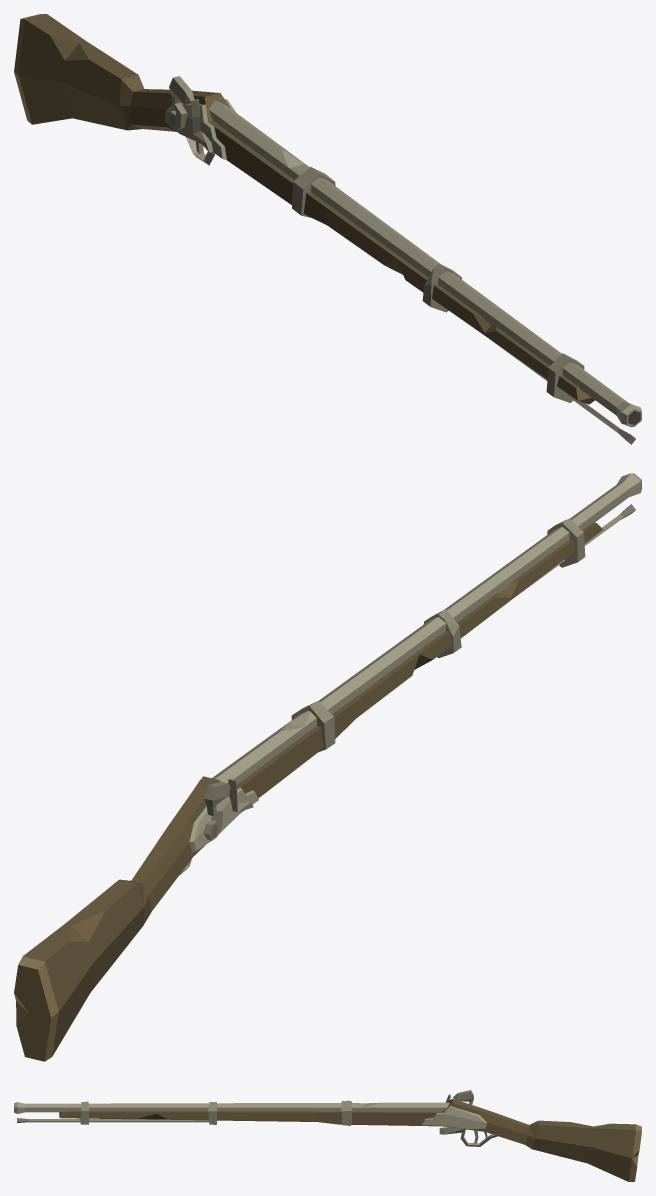
Rendered from Rifle_1.fbx.
The picture shows the model from 3 angles, top to bottom: view 1: azimuth 30°, elevation 25°; view 2: azimuth 150°, elevation 25°; view 3: azimuth 270°, elevation 25°; orthographic projection. The views are drawn at different scales.
Parts seen in each view (by area): view 1: Rifle_1; view 2: Rifle_1; view 3: Rifle_1.
Part boxes in pixels (x1,y1,x2,y2): Rifle_1: (14, 14, 641, 444); Rifle_1: (14, 473, 641, 1061); Rifle_1: (14, 1090, 641, 1181).
Size of the model in its own units: 7.01 by 24.36 by 165.
